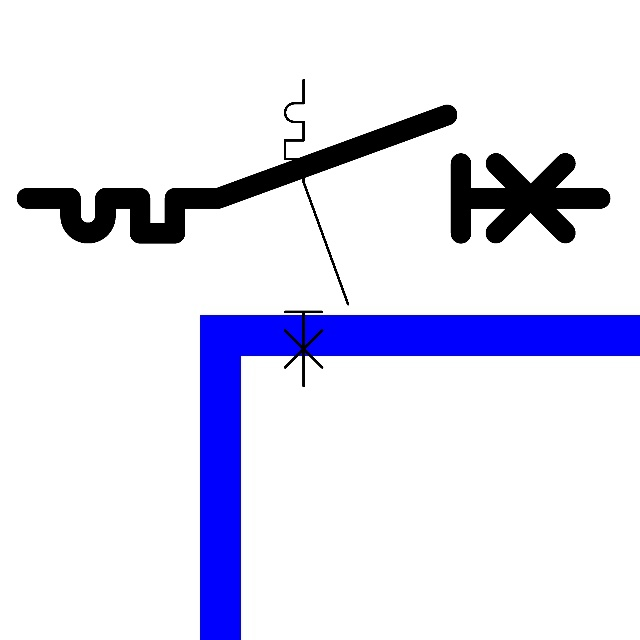interruptor_termomagnetico: (12, 100, 615, 248), (277, 72, 356, 394)
